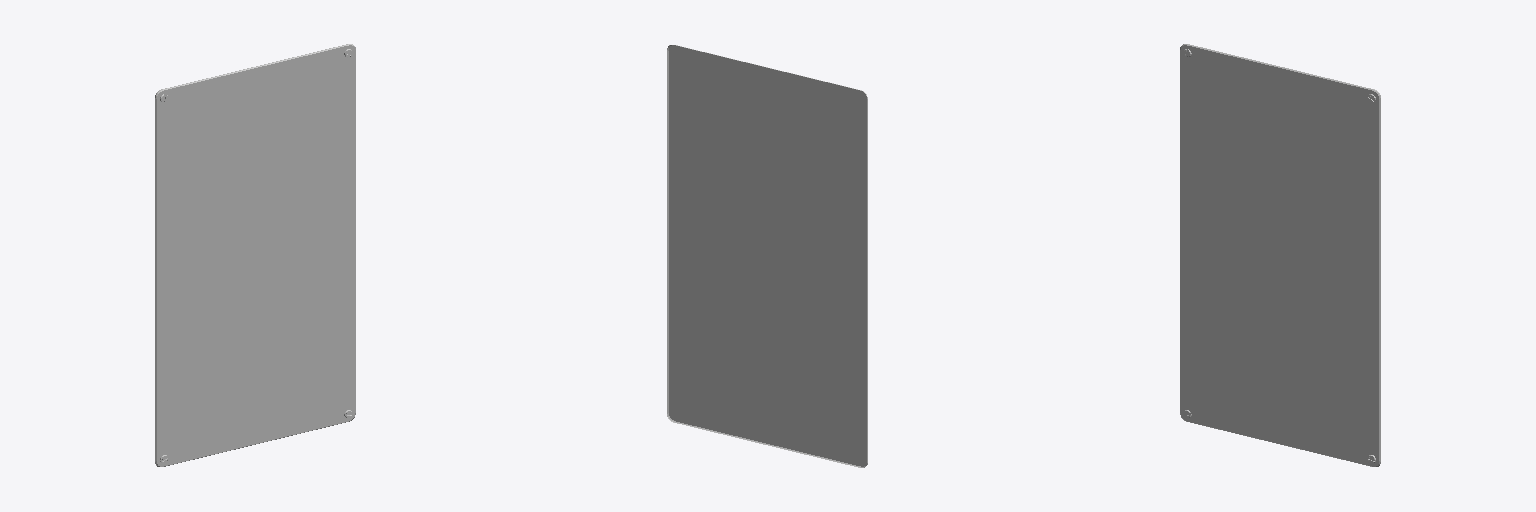
File: sign.obj
The picture shows the model from 3 angles: view 1: azimuth 30°, elevation 25°; view 2: azimuth 150°, elevation 25°; view 3: azimuth 330°, elevation 25°; orthographic projection.
Parts seen in each view (by area): view 1: renderMesh0; view 2: renderMesh0; view 3: renderMesh0.
Boxes of the visible parts, <box> form: renderMesh0: <box>155,44,355,466</box>; renderMesh0: <box>667,45,867,467</box>; renderMesh0: <box>1180,44,1380,466</box>.
Size of the model in its own units: 25 by 45 by 0.35.